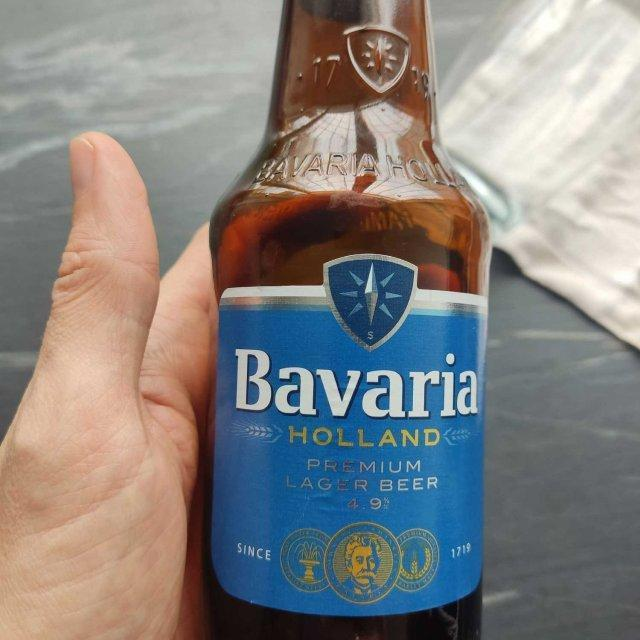BotolKaca: (203, 0, 493, 638)
